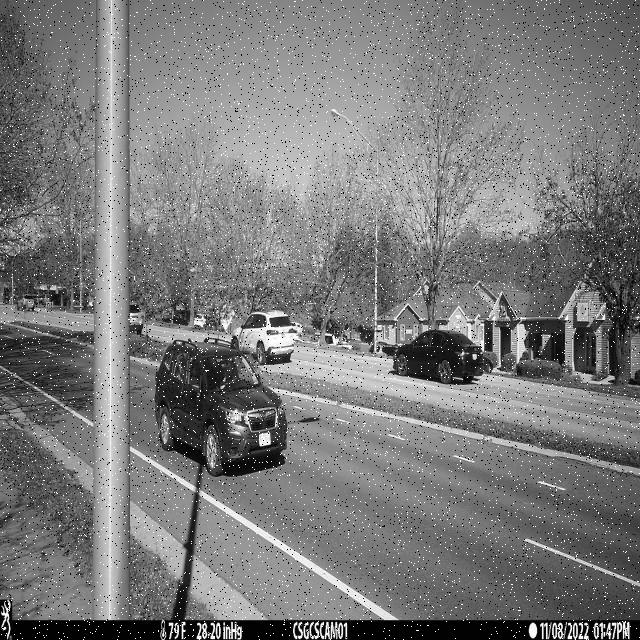SUV: (155, 338, 288, 478)
